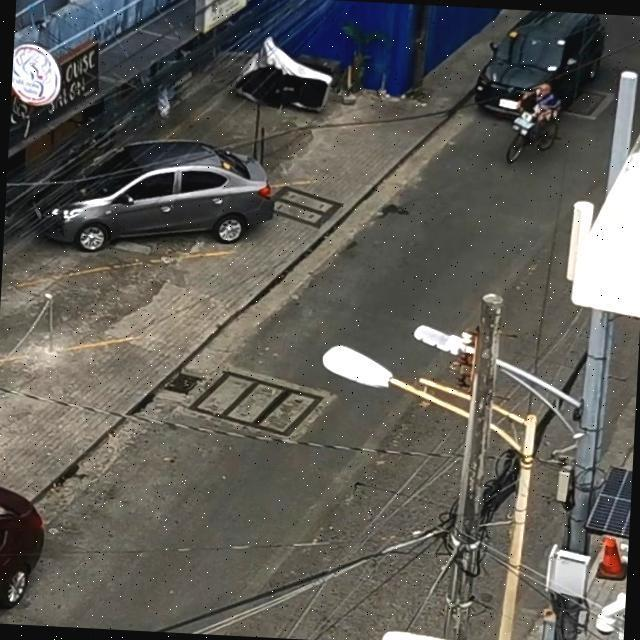Bike: (479, 64, 584, 172)
